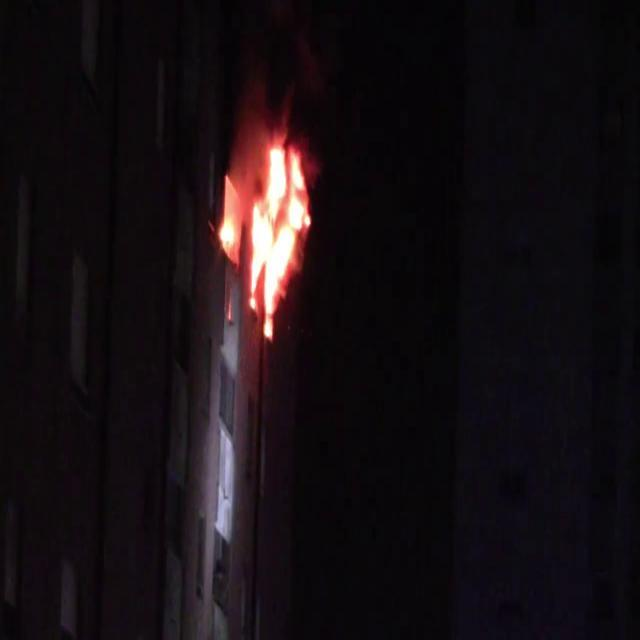Fire: (244, 128, 312, 332)
